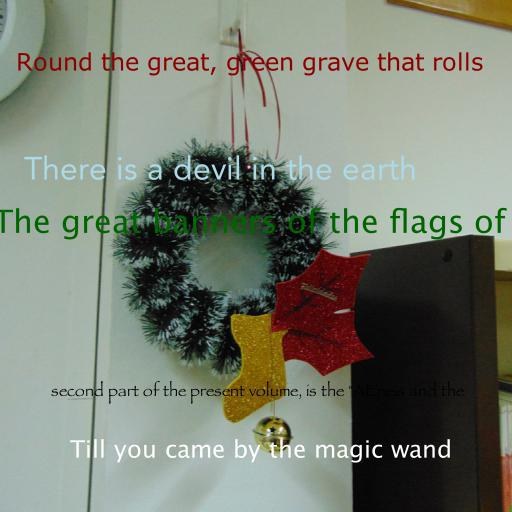Avenir: (23, 155, 417, 180)
Lucida Grande: (0, 207, 512, 240), (70, 439, 452, 463)
Papyrus: (50, 380, 464, 404)
Verdana: (16, 52, 484, 76)
